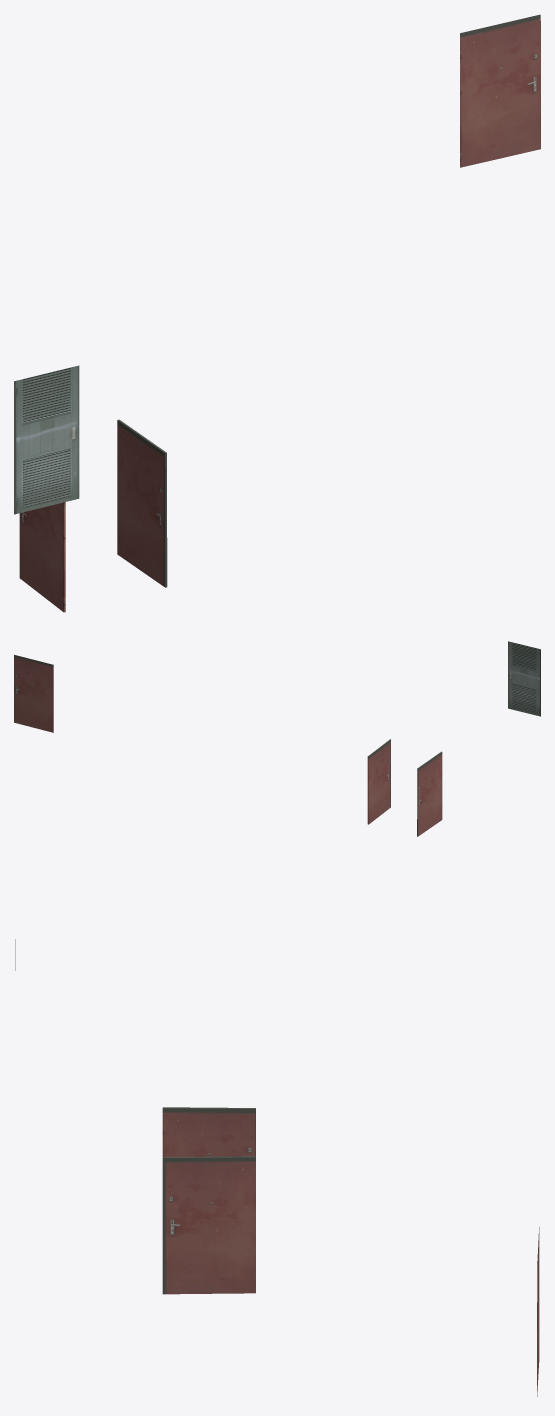
The model's file is Corridor_01_01.fbx.
3 views of the same model, one above another, from view 1: azimuth 30°, elevation 25°; view 2: azimuth 150°, elevation 25°; view 3: azimuth 270°, elevation 25° (orthographic). The views are drawn at different scales.
Parts seen in each view (by area): view 1: Corridor_01_01; view 2: Corridor_01_01; view 3: Corridor_01_01.
Part boxes in pixels (x1,y1,x2,y2): Corridor_01_01: (14, 14, 540, 612); Corridor_01_01: (14, 641, 540, 836); Corridor_01_01: (15, 939, 539, 1396).
Size of the model in its own units: 1824 by 698 by 1042.
